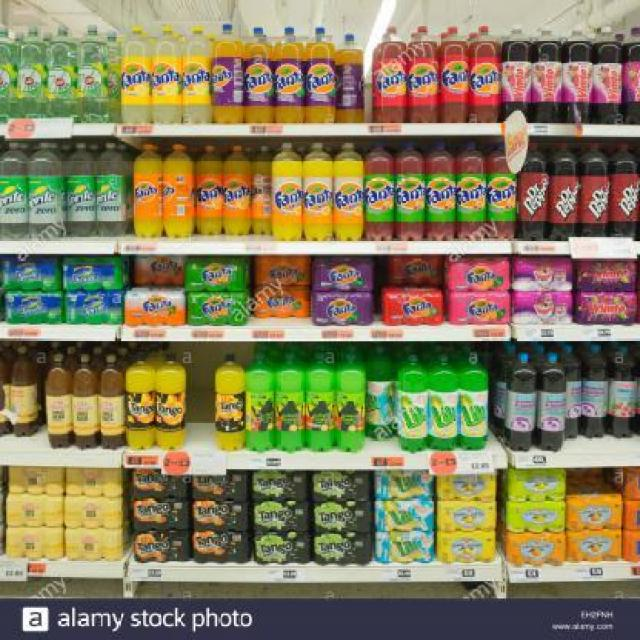Drinks: (28, 142, 67, 240), (212, 24, 245, 124), (271, 142, 304, 241), (395, 141, 427, 241), (120, 26, 152, 125), (547, 142, 579, 240), (517, 142, 549, 240), (375, 27, 408, 122), (408, 26, 440, 123), (304, 27, 336, 124), (96, 142, 129, 236), (456, 140, 487, 240), (182, 24, 213, 124), (578, 141, 610, 237), (303, 142, 334, 241), (244, 28, 276, 123), (609, 142, 640, 240), (487, 142, 518, 240), (78, 25, 109, 123), (469, 26, 500, 123), (364, 142, 394, 241), (334, 142, 364, 241), (152, 25, 182, 124), (426, 142, 456, 240), (162, 144, 193, 238), (274, 27, 304, 124), (17, 26, 48, 119), (0, 142, 29, 240), (66, 143, 96, 237), (439, 27, 468, 124), (48, 25, 78, 118), (133, 143, 162, 239), (223, 144, 251, 236), (336, 34, 364, 124), (196, 144, 224, 233), (446, 255, 512, 292), (184, 255, 250, 292), (61, 256, 128, 292), (124, 288, 185, 326), (380, 288, 443, 324), (444, 290, 510, 324), (0, 254, 60, 291), (186, 292, 251, 326), (313, 257, 375, 292), (311, 292, 374, 326), (251, 144, 274, 236), (63, 292, 125, 325), (4, 290, 64, 324), (251, 286, 311, 319), (252, 254, 312, 286), (385, 253, 446, 284), (133, 254, 185, 286)
